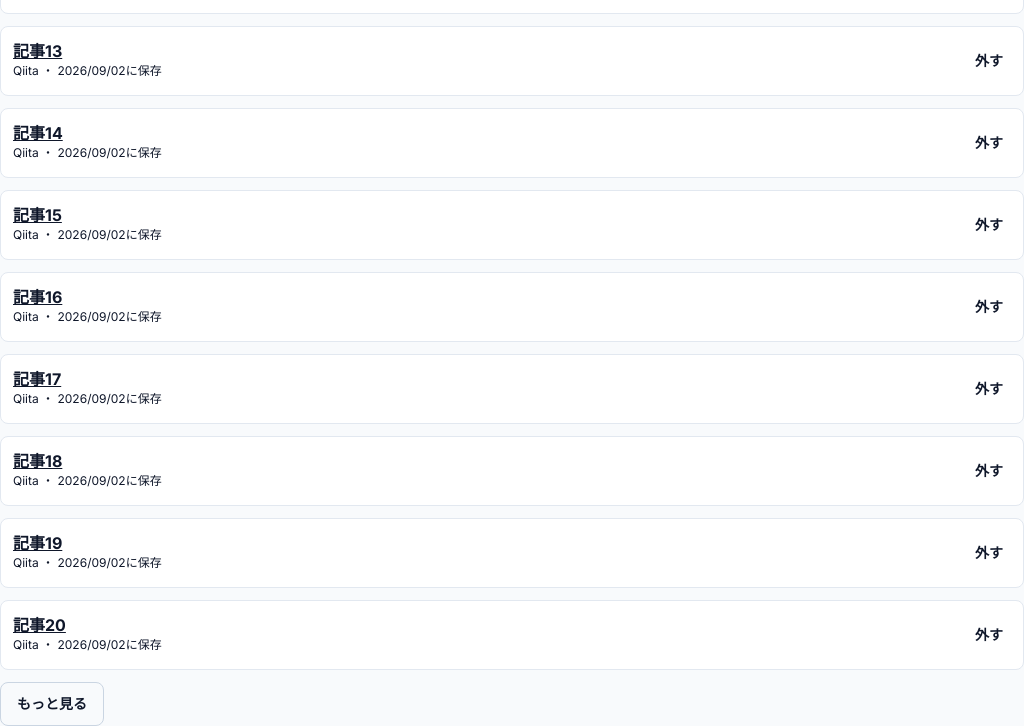
Test: SavedArticlesList › 「もっと見る」で次のページを読み足し、最後のページではボタンが消える
The width and height of the screenshot is (1024, 726).
(page scrolled)
Click the button "もっと見る" at (52, 704), box [0,682,104,725]
(page scrolled)
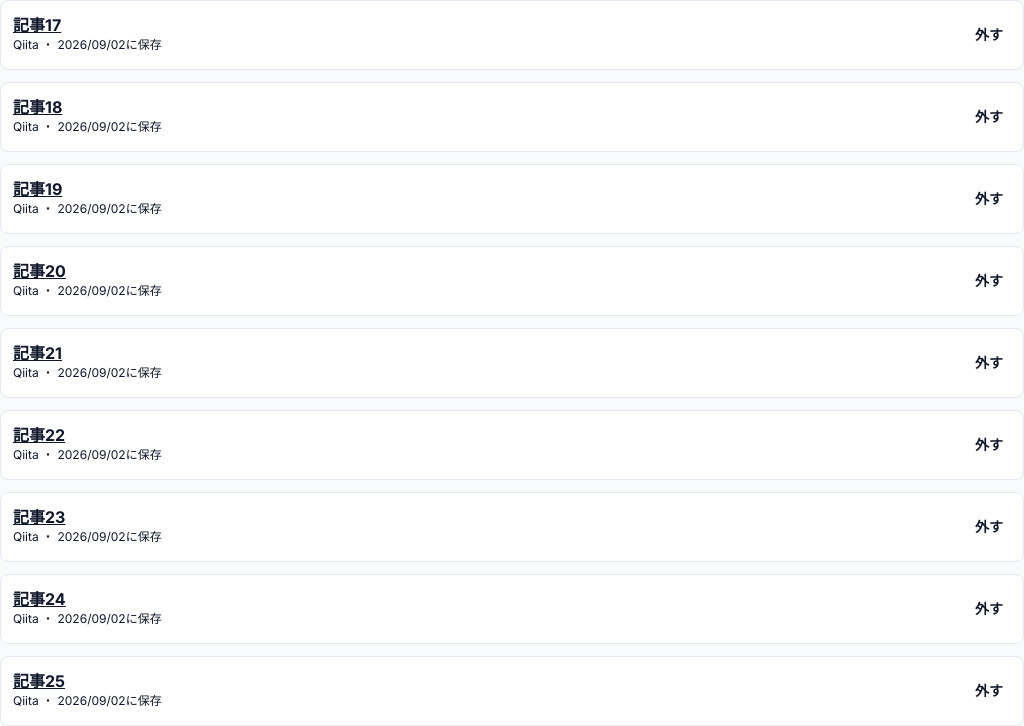
Check: the link "記事25" is shown, box [13,671,65,691]
Check: the button "もっと見る" is gone
